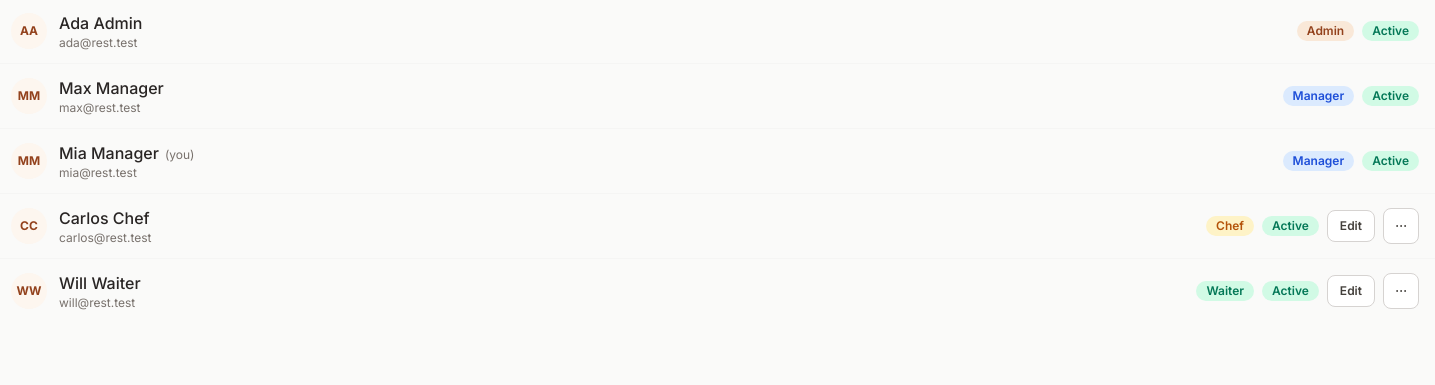
Test: AccountTable › gives a manager Edit details / Reset password on waiters and chefs only
Step 1. Click the button named "More actions for Will Waiter" → (1401, 291), box [1383,273,1419,309]
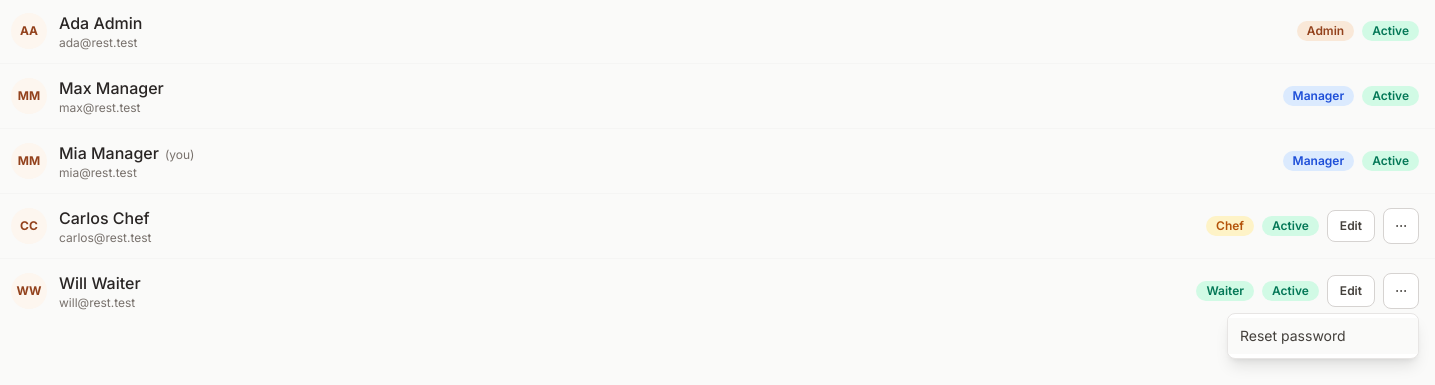
Expected: the button with aria-label "Edit details for Will Waiter" is shown, [1327,275,1375,307]
Expected: the menu item with aria-label "Reset password for Will Waiter" is shown, [1228,318,1418,354]
